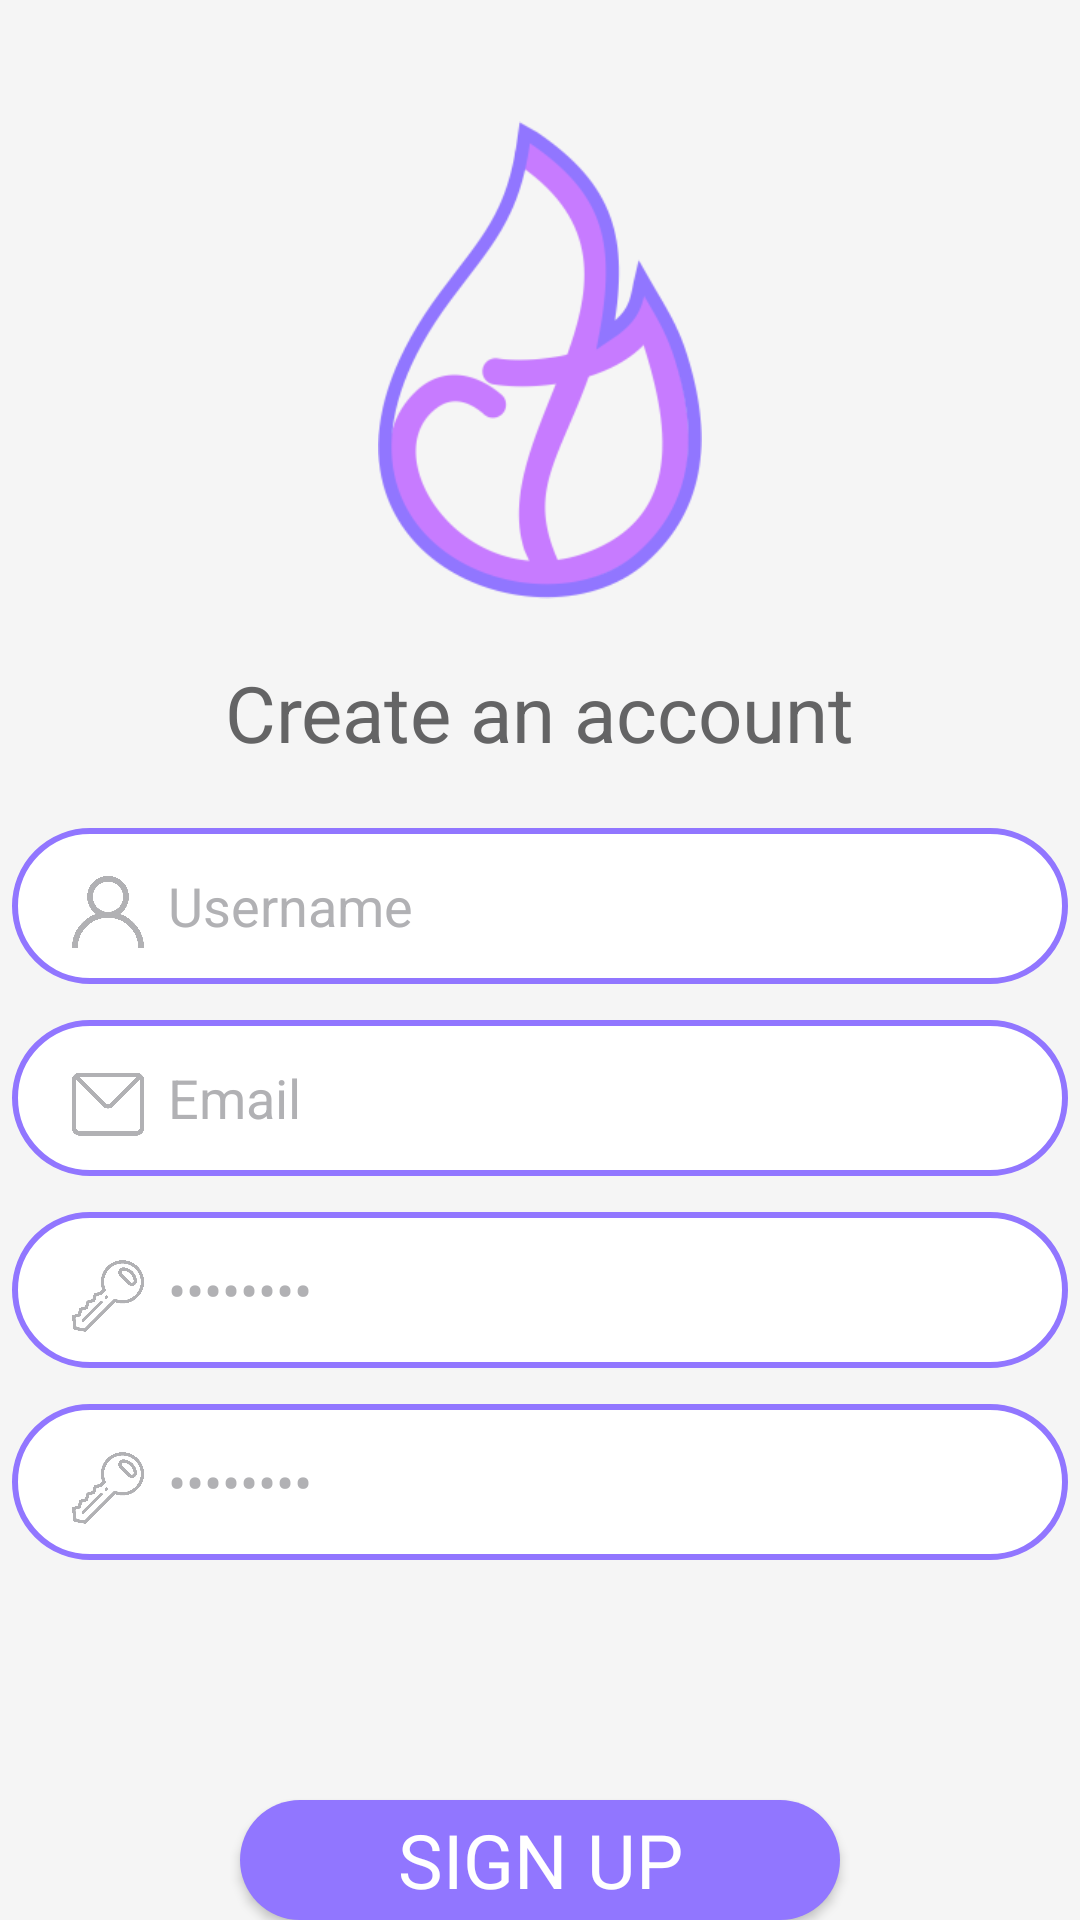

Named icons in this screenshot (1080×1920) and their centers, point (x, y):
key: point (108, 1296), point (108, 1488)
message: point (108, 1104)
